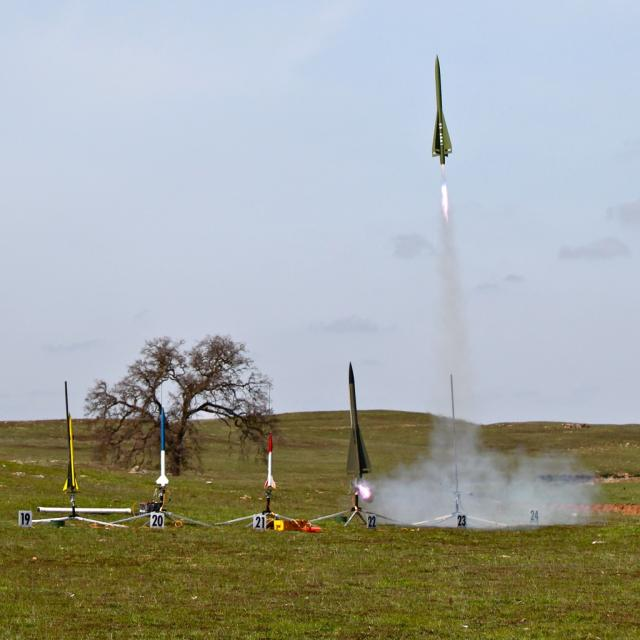rocket: (428, 48, 464, 211), (345, 363, 381, 519), (57, 376, 89, 514), (152, 407, 178, 514), (256, 432, 277, 521)
